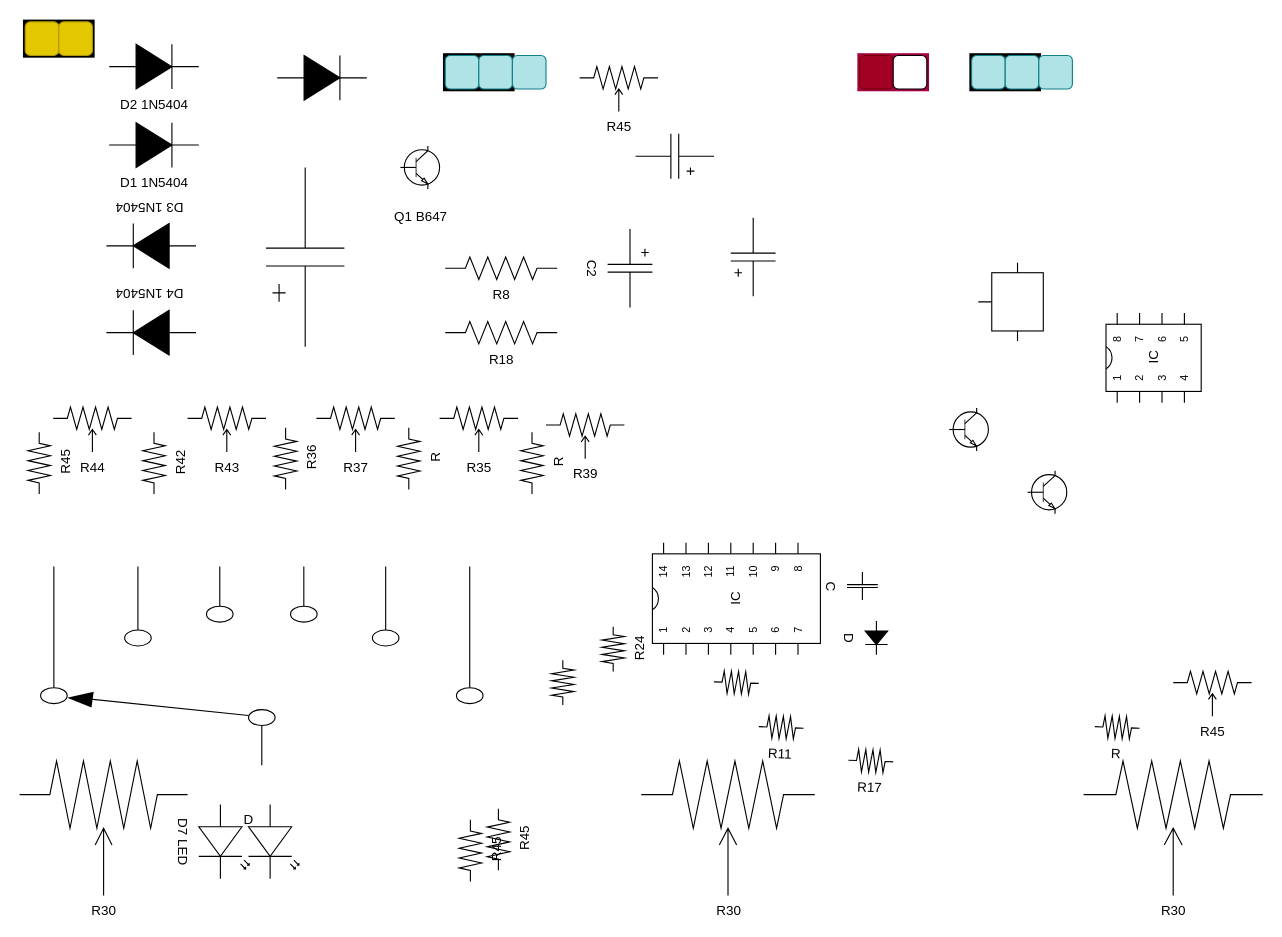
This 1282x937 diagram has some shape labels left out. Each missing label, with the centre of its shape:
"2200 uF/35V" belongs at pixel 304 256.
"R23" belongs at pixel 735 682.
